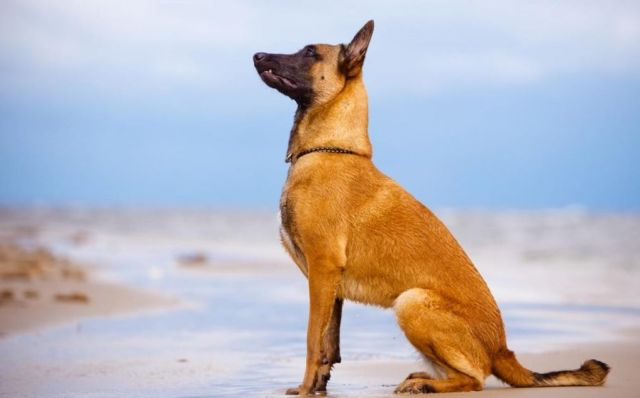dog: (244, 13, 614, 398)
